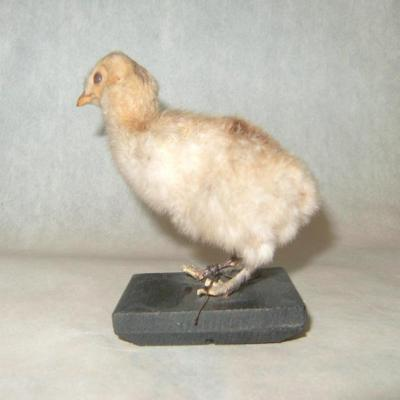natural_science_collection: (75, 51, 323, 298)
